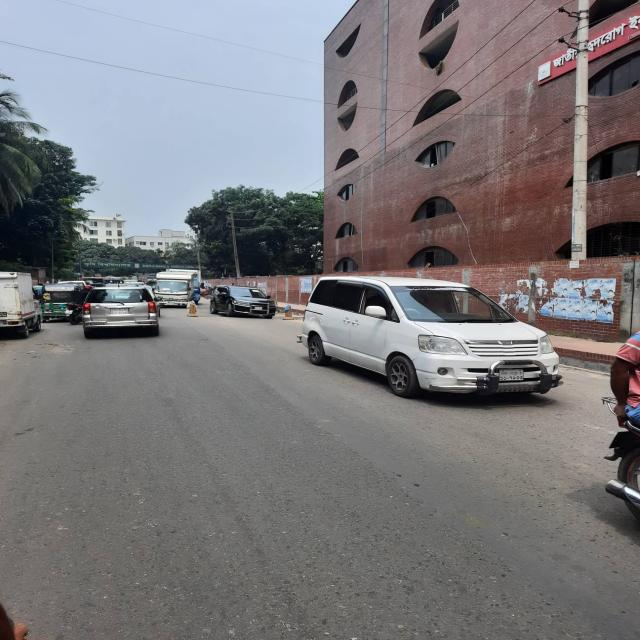Car: (80, 283, 163, 342), (207, 284, 274, 319)
Zeep: (301, 267, 560, 411)
